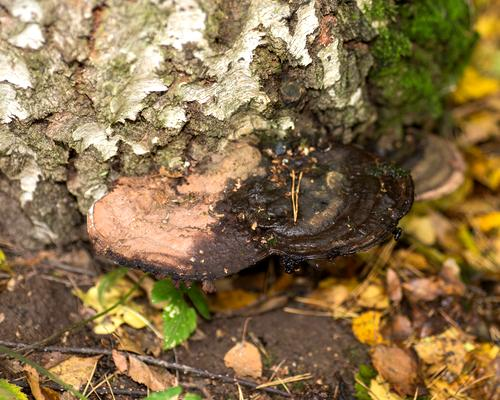Ganoderma - Fruit Body: (87, 143, 414, 281)
